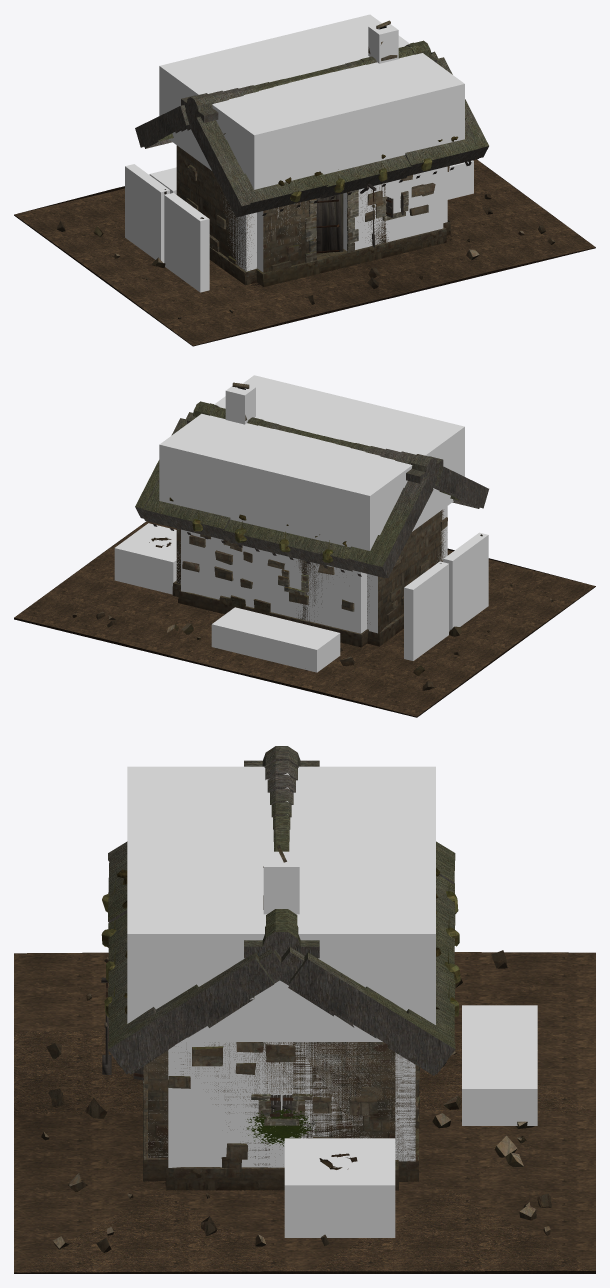
Rendered from bld_cottage_ness_shared_tex.glb.
3 renders of one model, top to bottom at view 1: azimuth 30°, elevation 25°; view 2: azimuth 150°, elevation 25°; view 3: azimuth 270°, elevation 25°, orthographic. The views are drawn at different scales.
Parts seen in each view (by area): view 1: col_roof, ground_mud, roof_turf_thatch, lite_merge_07, col_wall_S_2, col_net_0, col_net_1, lite_merge_04, lite_merge_08, door_main_leaf, col_wall_W_0, col_chimney (+3 smaller); view 2: col_roof, ground_mud, roof_turf_thatch, col_wall_N_0, col_boat, lite_merge_07, lite_merge_02, col_net_1, col_peat, col_net_0, col_chimney, col_wall_W_0 (+1 smaller); view 3: ground_mud, col_roof, roof_turf_thatch, col_wall_E_0, lite_merge_04, col_peat, lite_merge_02, col_boat, lite_merge_05, col_chimney, col_wall_N_0, lite_merge_07 (+2 smaller).
Part boxes in pixels (x1,y1,x2,y2): col_roof: (159,14,464,189); ground_mud: (14,159,595,346); roof_turf_thatch: (135,40,488,217); lite_merge_07: (176,145,446,286); col_wall_S_2: (343,167,443,250); col_net_0: (164,193,209,292); col_net_1: (125,164,169,262); lite_merge_04: (263,183,388,272); lite_merge_08: (305,189,408,262); door_main_leaf: (315,193,343,253); col_wall_W_0: (223,200,256,271); col_chimney: (368,23,398,63); col_roof: (159,375,464,550); ground_mud: (14,521,595,717); roof_turf_thatch: (135,401,488,578); col_wall_N_0: (181,529,366,633); col_boat: (211,607,340,672); lite_merge_07: (192,509,447,646); lite_merge_02: (172,382,368,647); col_net_1: (404,561,448,660); col_peat: (114,523,176,594); col_net_0: (443,532,488,631); col_chimney: (225,382,255,424); col_wall_W_0: (367,506,447,633); ground_mud: (14,952,595,1273); col_roof: (127,766,435,1041); roof_turf_thatch: (108,746,455,1075); col_wall_E_0: (168,1042,394,1167); lite_merge_04: (148,1042,395,1165); col_peat: (284,1138,395,1237); lite_merge_02: (165,845,419,1190); col_boat: (462,1005,537,1125); lite_merge_05: (41,950,551,1252); col_chimney: (263,851,299,914); col_wall_N_0: (395,1052,415,1161); lite_merge_07: (101,891,460,1181).
Size of the model in its own units: 13 by 6.26 by 10.
Materials: 12 (9 with a texture image).
